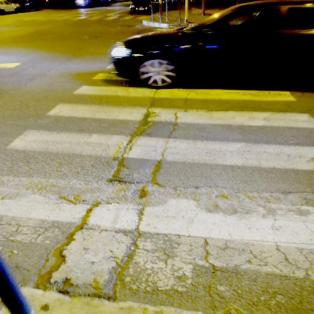Paso de Cebra: (22, 82, 314, 131)
